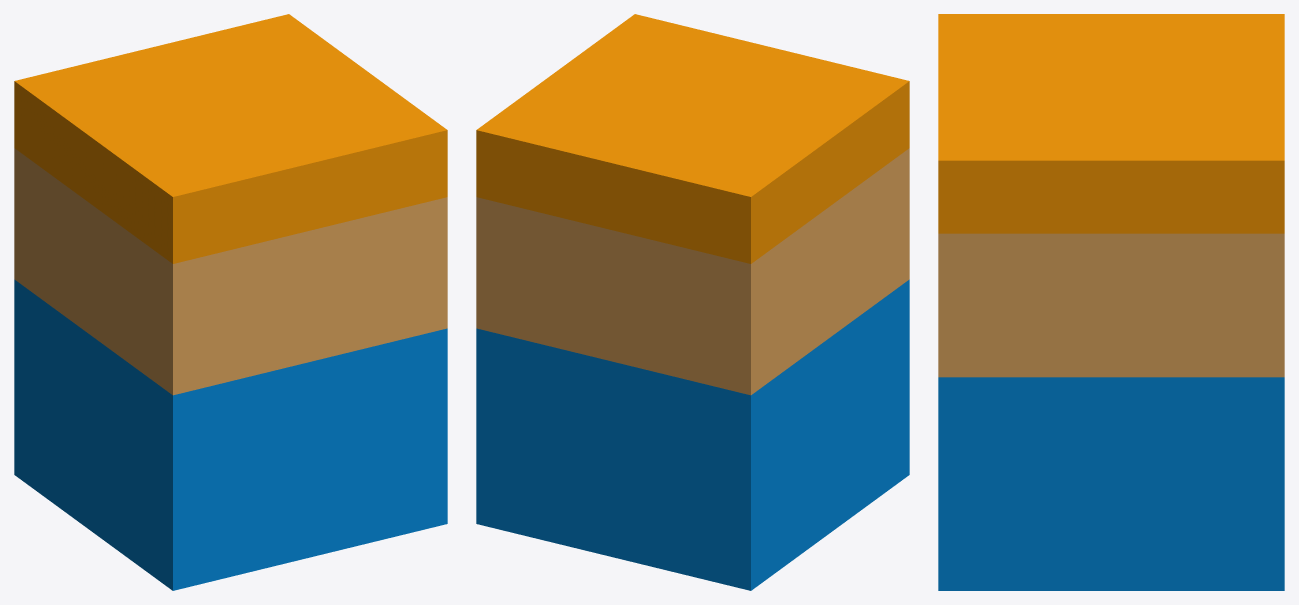
The model's file is MiBombo.fbx.
3 renders of one model, left to right at view 1: azimuth 30°, elevation 25°; view 2: azimuth 150°, elevation 25°; view 3: azimuth 270°, elevation 25°, orthographic. The views are drawn at different scales.
Visible parts, largest first — view 1: Cube; view 2: Cube; view 3: Cube.
Boxes of the visible parts, x1,y1,x2,y2 form: Cube: [14, 14, 447, 590]; Cube: [476, 14, 909, 590]; Cube: [938, 14, 1284, 590].
Bounding box in the file's own units: 152 × 209 × 152.
